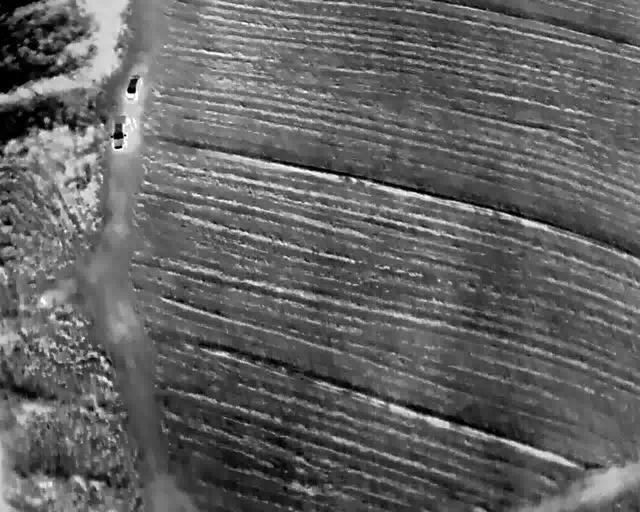car: (112, 115, 126, 151), (126, 73, 141, 101)
person: (132, 116, 137, 128), (40, 295, 46, 305)
